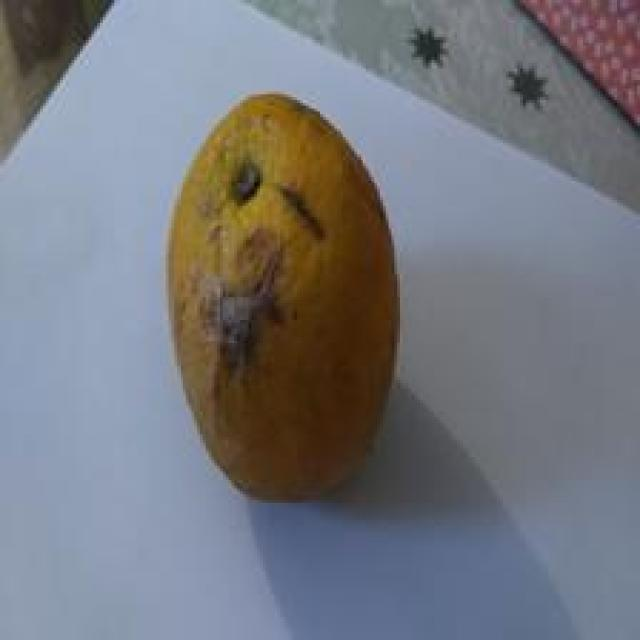overripe: (161, 80, 409, 512)
